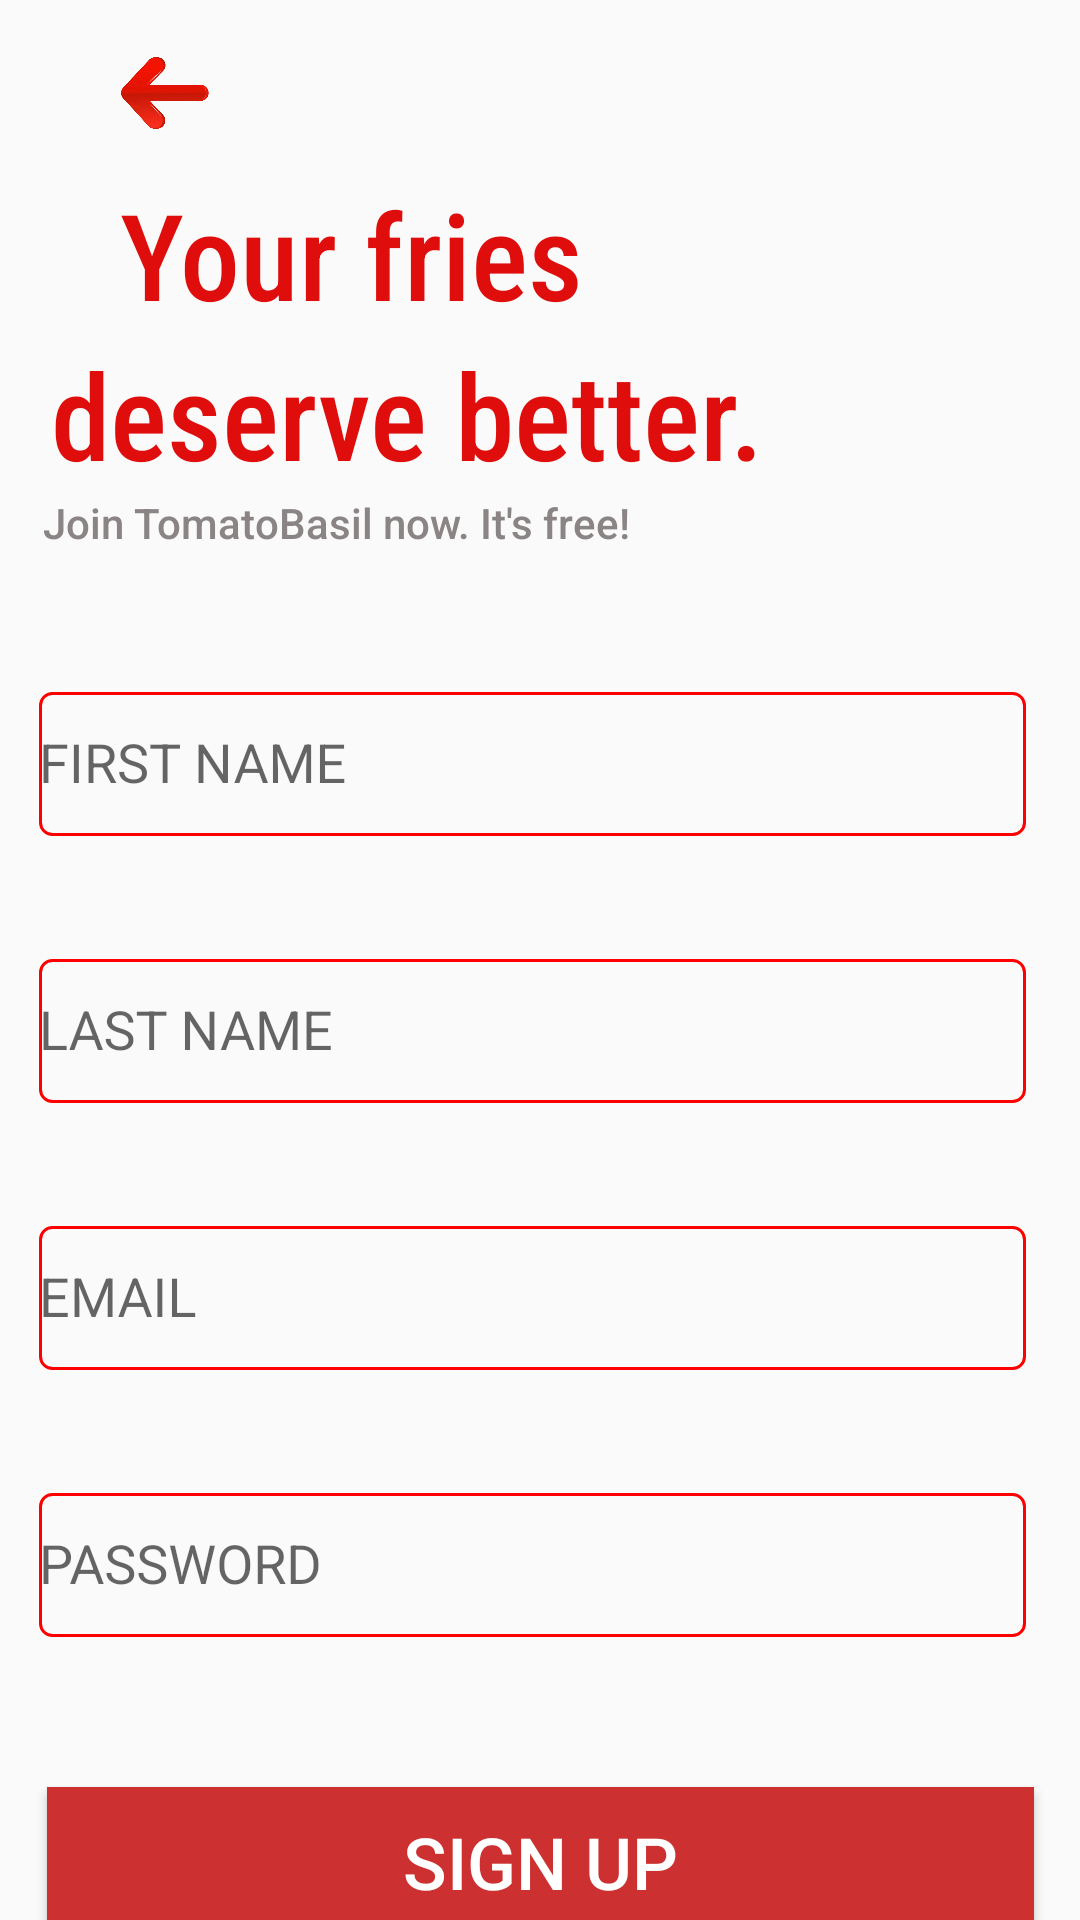

Named icons in this screenshot (1080 x 1920) and their centers, (x=x, y=y):
back: (x=165, y=93)
